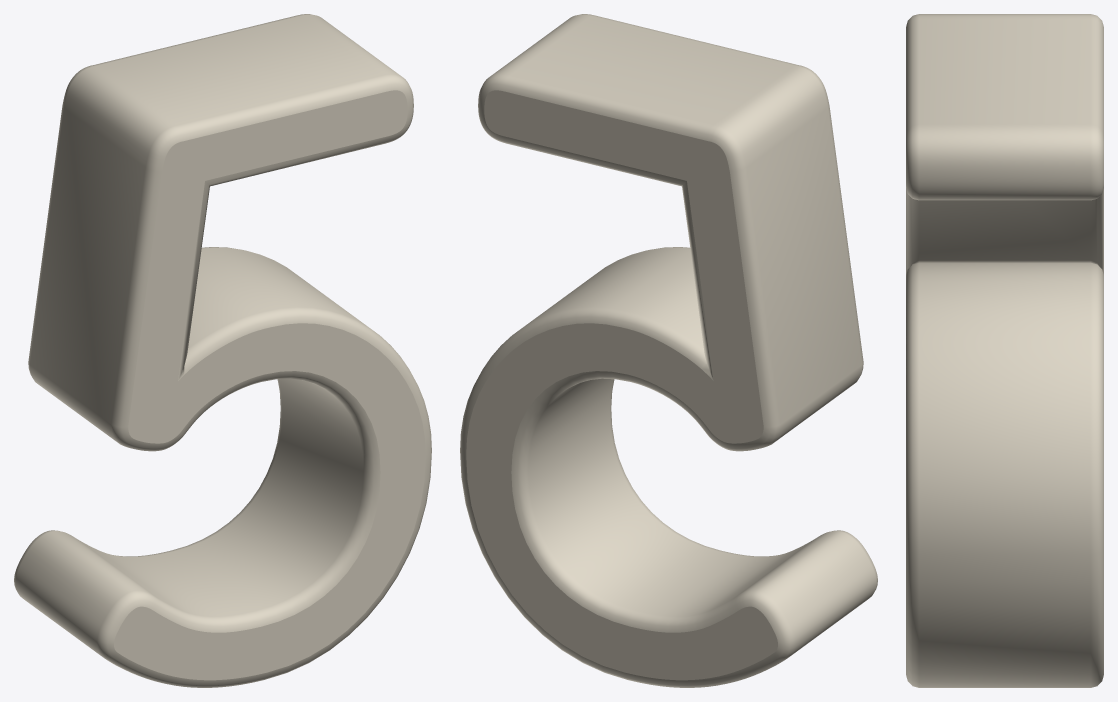
Rendered from number_5.glb.
3 views of the same model, side by side, from view 1: azimuth 30°, elevation 25°; view 2: azimuth 150°, elevation 25°; view 3: azimuth 270°, elevation 25° (orthographic). The views are drawn at different scales.
Parts seen in each view (by area): view 1: color_body; view 2: color_body; view 3: color_body.
Part boxes in pixels (<box>): color_body: <box>14,14,431,687</box>; color_body: <box>460,14,877,687</box>; color_body: <box>906,14,1103,687</box>.
Size of the model in its own units: 0.497 by 0.8184 by 0.242.
